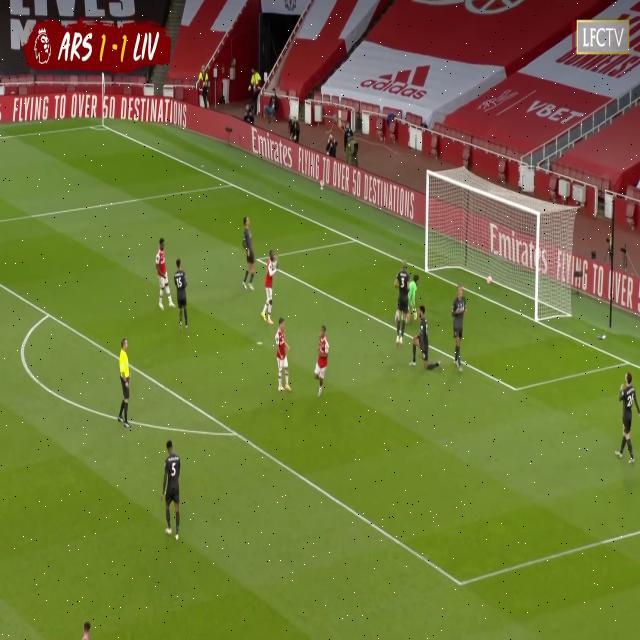Ball: (485, 273, 494, 288)
GoalKeeper: (409, 269, 422, 323)
TEAM 1: (153, 238, 171, 311), (276, 319, 292, 395), (312, 328, 328, 400), (262, 250, 276, 322)
TEAM 2: (161, 440, 182, 542), (617, 372, 639, 466), (392, 258, 408, 350), (412, 307, 433, 370), (241, 217, 259, 289), (174, 259, 191, 330), (450, 288, 466, 361)
